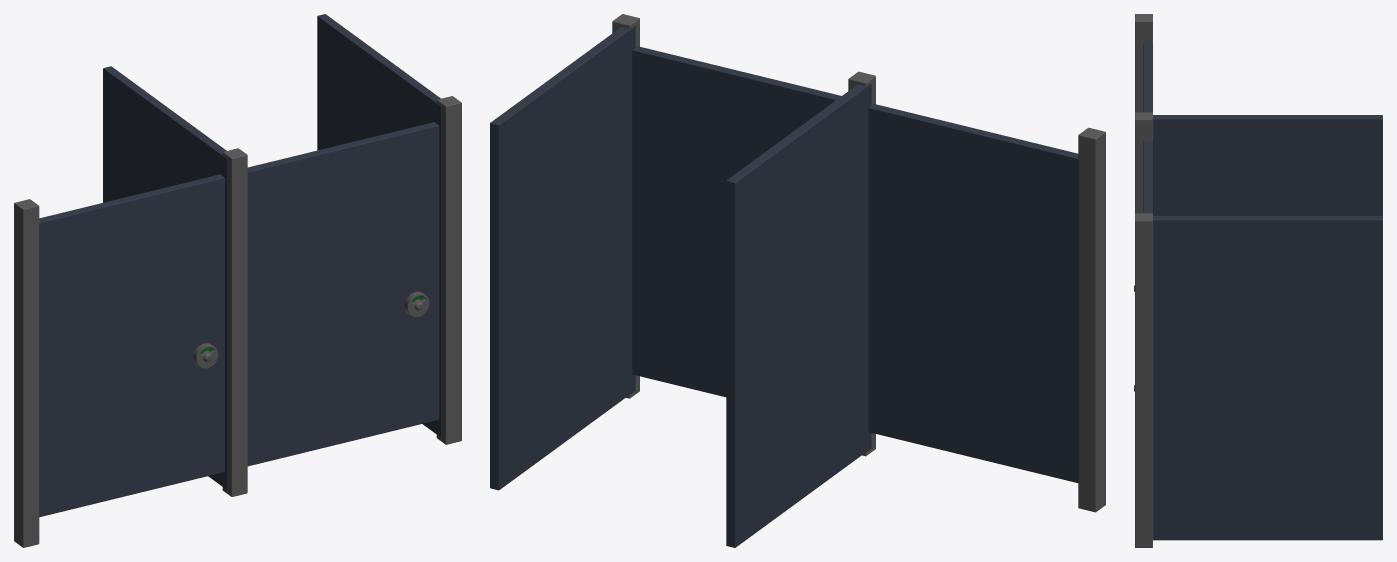
File: kible.fbx
The picture shows the model from 3 angles, left to right: view 1: azimuth 30°, elevation 25°; view 2: azimuth 150°, elevation 25°; view 3: azimuth 270°, elevation 25°; orthographic projection. The views are drawn at different scales.
Parts seen in each view (by area): view 1: Cube.001; view 2: Cube.001; view 3: Cube.001.
Part boxes in pixels (left/top/right/bottom): Cube.001: left=14, top=14, right=461, bottom=547; Cube.001: left=490, top=14, right=1105, bottom=547; Cube.001: left=1134, top=14, right=1382, bottom=547.
Bounding box in the file's own units: 409 × 302 × 208.
